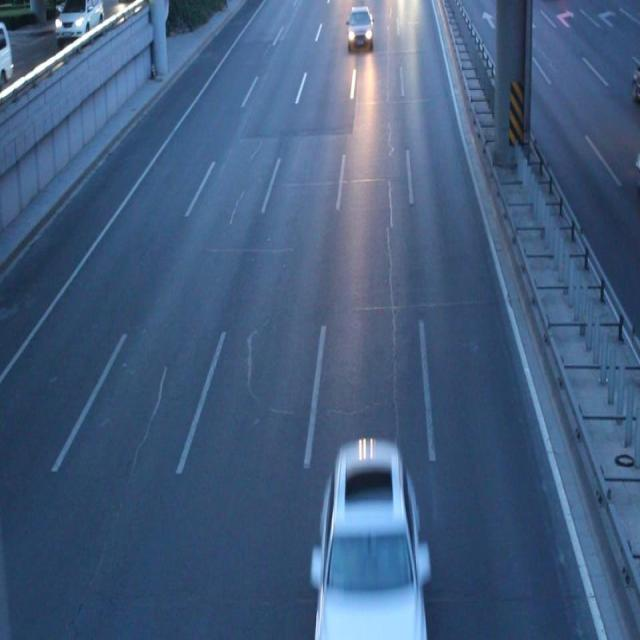car: (312, 443, 426, 640), (347, 8, 372, 49)
